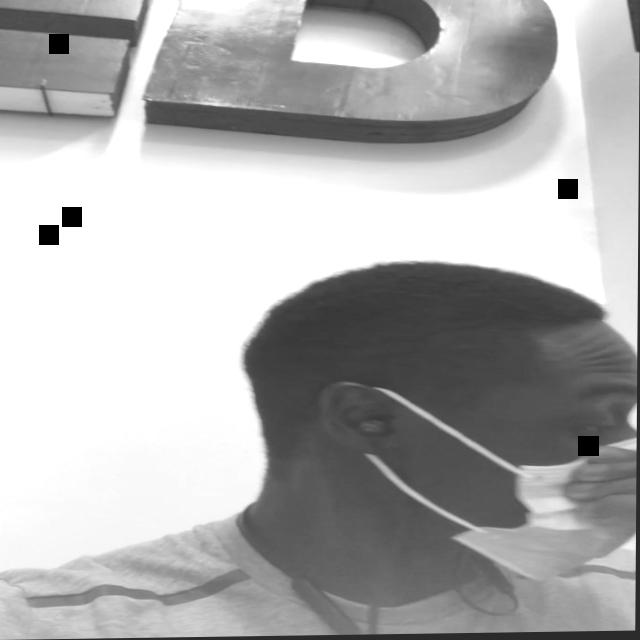Mask: (365, 328, 638, 587)
